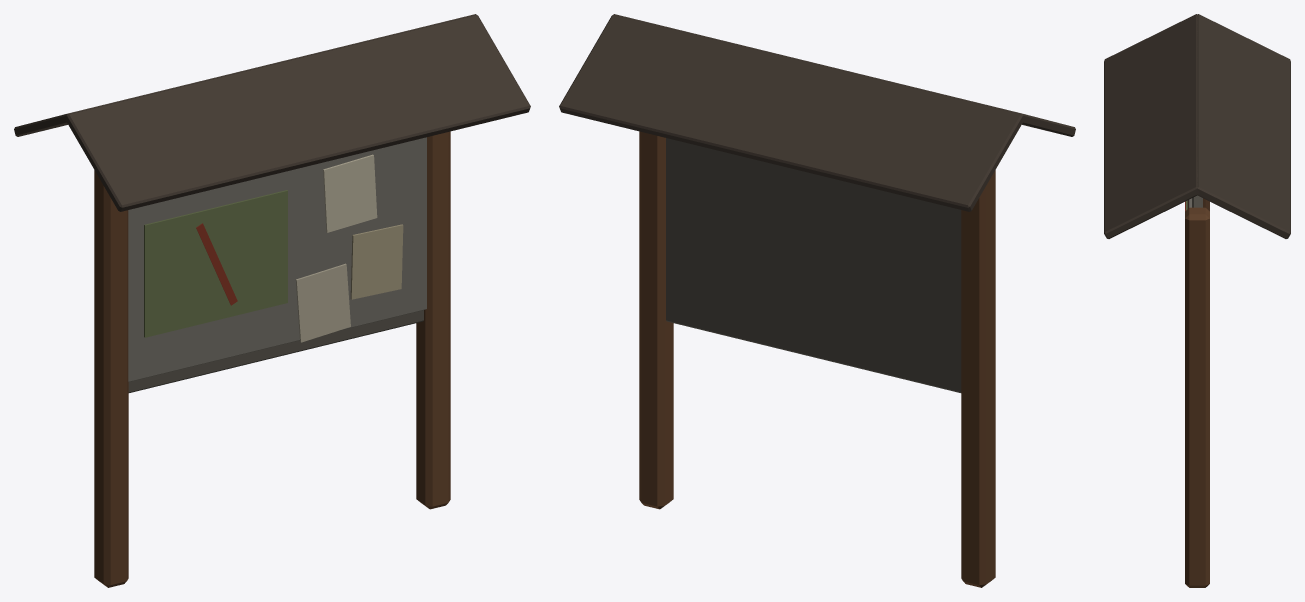
Rendered from notice-board.glb.
The picture shows the model from 3 angles, left to right: view 1: azimuth 30°, elevation 25°; view 2: azimuth 150°, elevation 25°; view 3: azimuth 270°, elevation 25°; orthographic projection. The views are drawn at different scales.
Parts seen in each view (by area): view 1: notice-board; view 2: notice-board; view 3: notice-board.
Part boxes in pixels (x1,y1,x2,y2): notice-board: [14, 14, 530, 587]; notice-board: [559, 14, 1075, 587]; notice-board: [1104, 14, 1290, 587].
Bounding box in the file's own units: 2.3 × 2.56 × 1.04.
